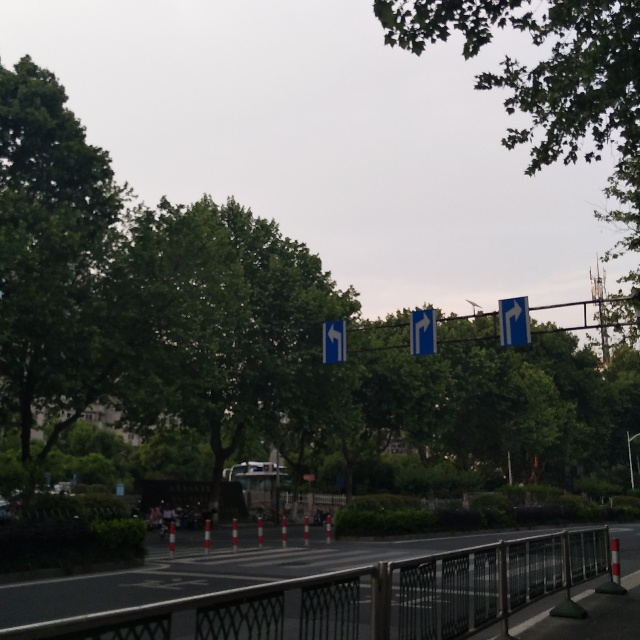left: (322, 321, 346, 364)
right: (498, 297, 532, 347), (410, 310, 437, 354)
